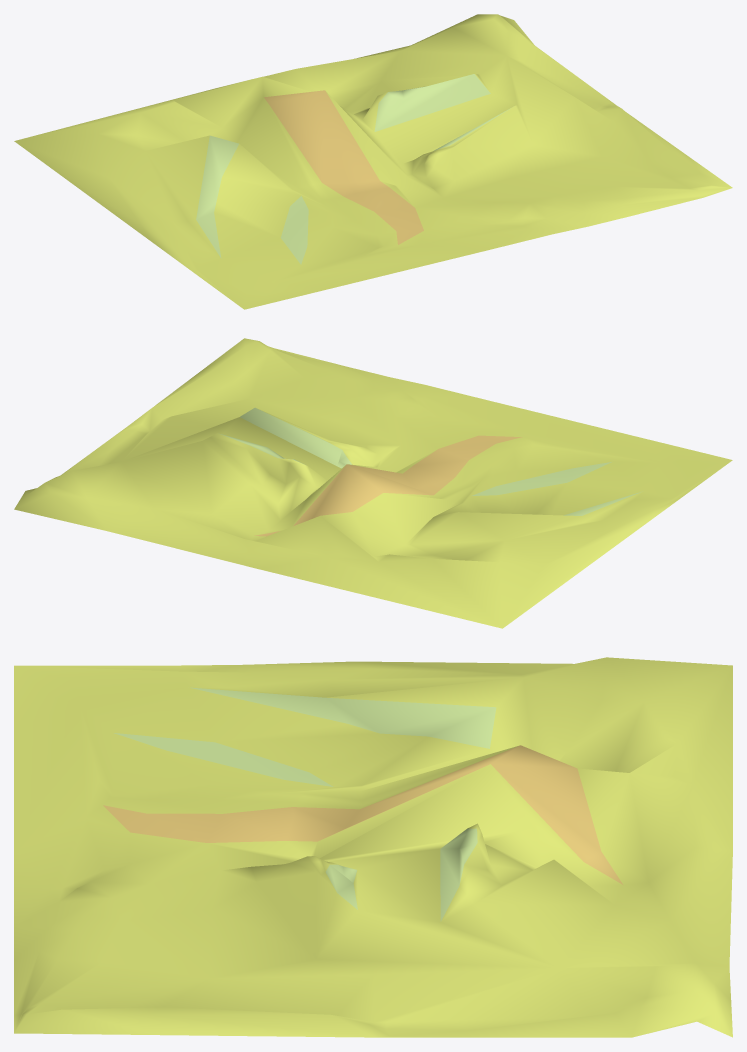
Rendered from groud5.fbx.
3 views of the same model, one above another, from view 1: azimuth 30°, elevation 25°; view 2: azimuth 150°, elevation 25°; view 3: azimuth 270°, elevation 25° (orthographic). The views are drawn at different scales.
Parts seen in each view (by area): view 1: terraun; view 2: terraun; view 3: terraun.
Part boxes in pixels (bbox=[...]): terraun: bbox=[14, 14, 732, 309]; terraun: bbox=[14, 338, 732, 628]; terraun: bbox=[14, 657, 732, 1037].
Size of the model in its own units: 82785 by 9342 by 67601.
